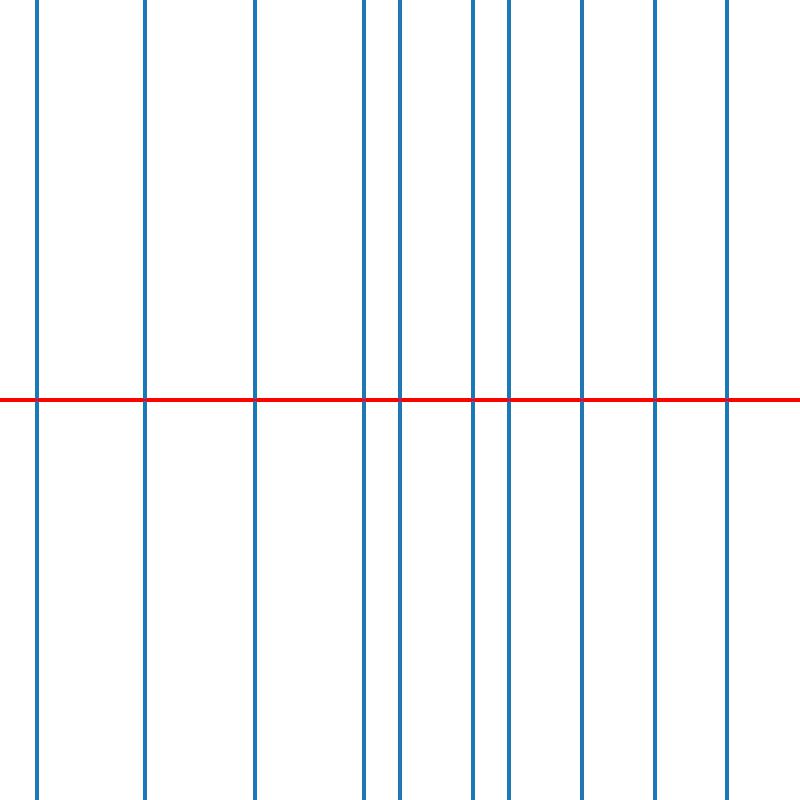root: (32, 396, 40, 404), (141, 396, 149, 404), (650, 396, 658, 404), (250, 396, 258, 404), (469, 396, 476, 404), (578, 396, 585, 404), (396, 396, 403, 404), (723, 396, 730, 404), (360, 396, 367, 404), (505, 396, 512, 404)
